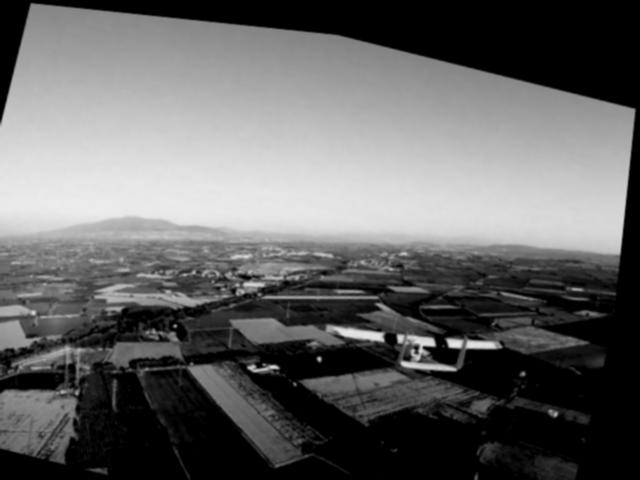hedef: (319, 272, 524, 398)
